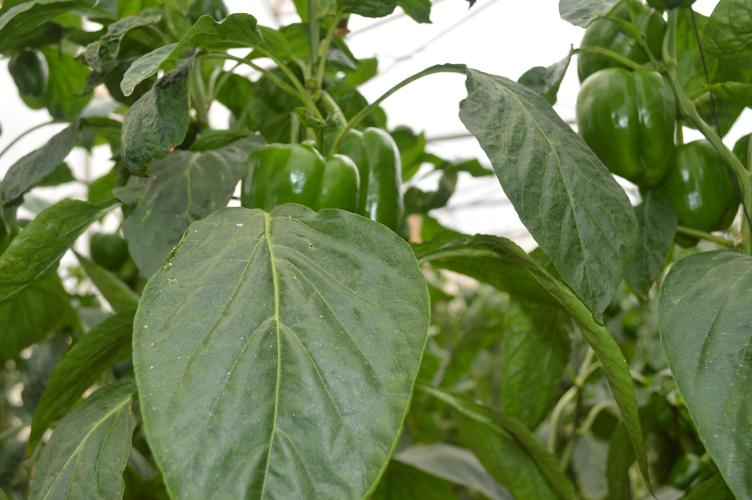BellPepper: (221, 135, 372, 254), (563, 48, 678, 197), (305, 113, 414, 245), (657, 120, 741, 256)
